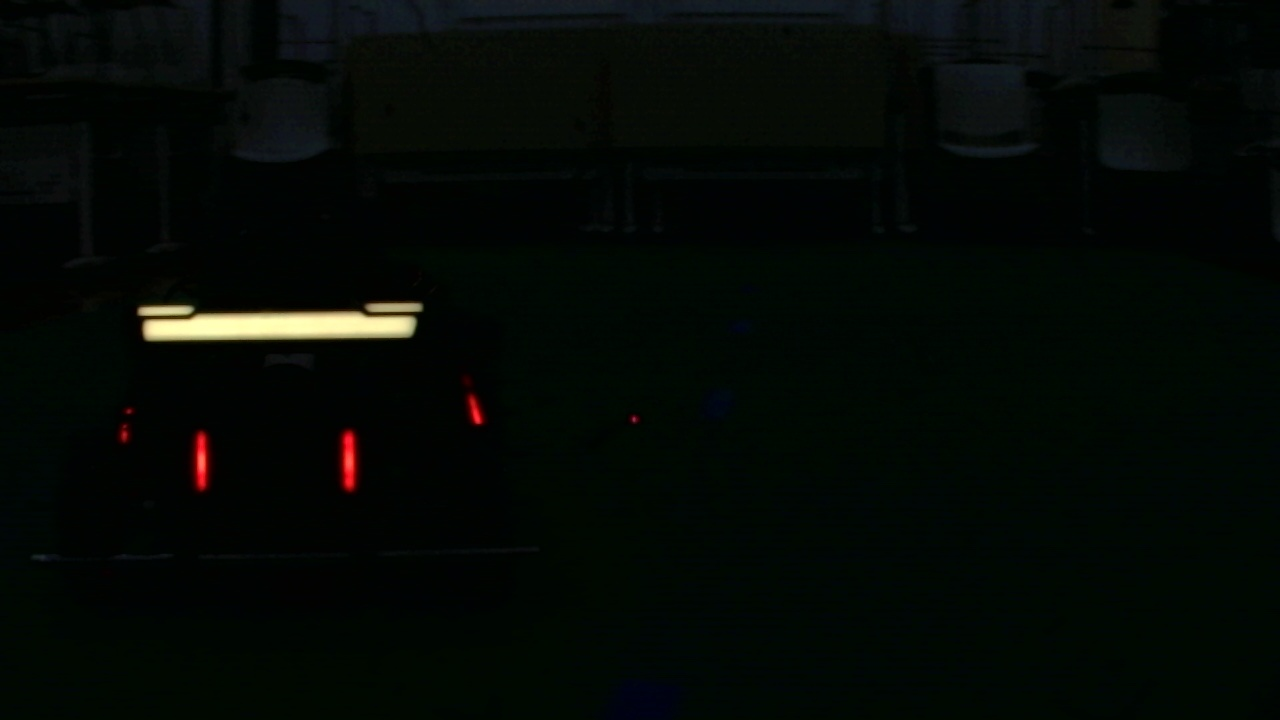lamp: (191, 425, 211, 495), (341, 427, 357, 492)
notpair1: (343, 391, 483, 492)
pair1: (192, 428, 357, 493)
